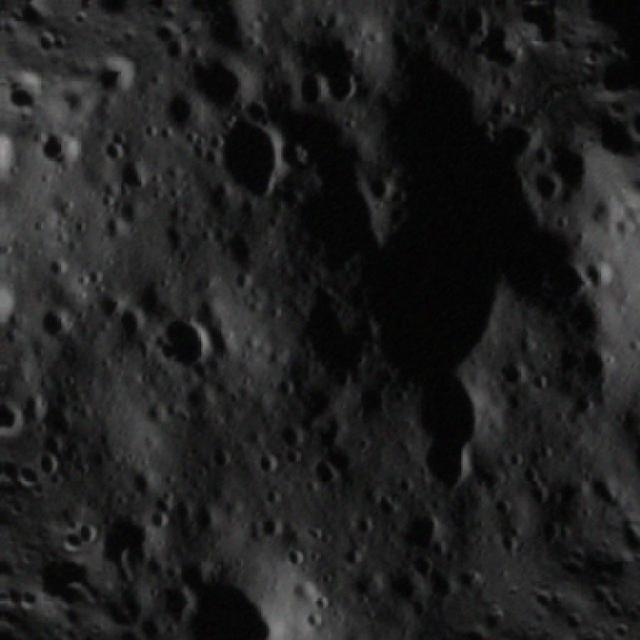crater: (205, 106, 304, 209), (147, 298, 227, 378), (484, 102, 544, 164), (28, 119, 84, 172), (283, 55, 334, 108), (0, 262, 31, 346), (262, 406, 313, 456), (574, 247, 623, 299), (525, 162, 569, 205), (303, 445, 346, 489), (178, 491, 222, 534), (247, 509, 291, 551), (322, 58, 363, 102), (113, 155, 156, 196), (518, 361, 558, 401), (202, 436, 241, 475), (30, 440, 68, 480), (17, 379, 51, 415), (278, 538, 312, 570), (40, 249, 74, 280), (99, 286, 132, 317), (416, 505, 447, 537), (95, 129, 126, 160), (298, 606, 330, 634), (624, 429, 640, 482), (306, 586, 334, 614), (635, 266, 640, 309)
